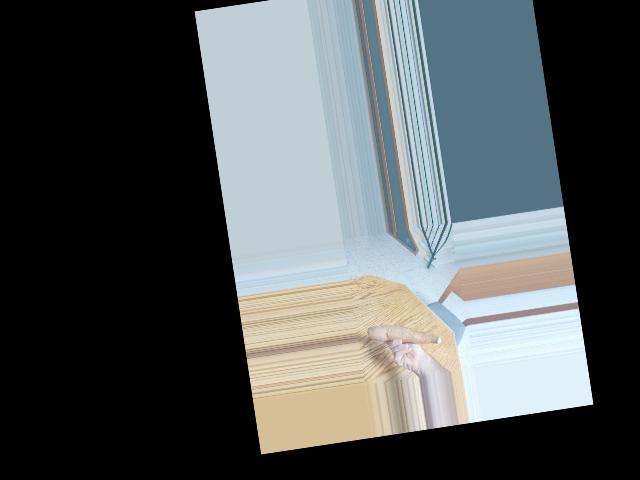sweet_potato: (367, 313, 442, 356)
